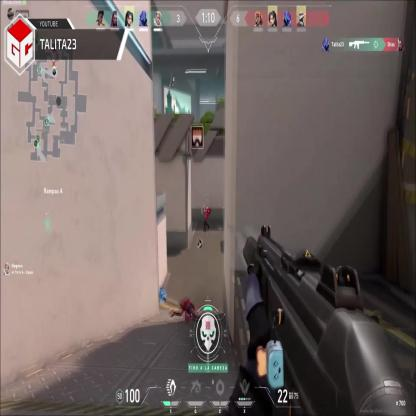enemy: (202, 205, 209, 230)
enemy_head: (204, 206, 206, 212)
